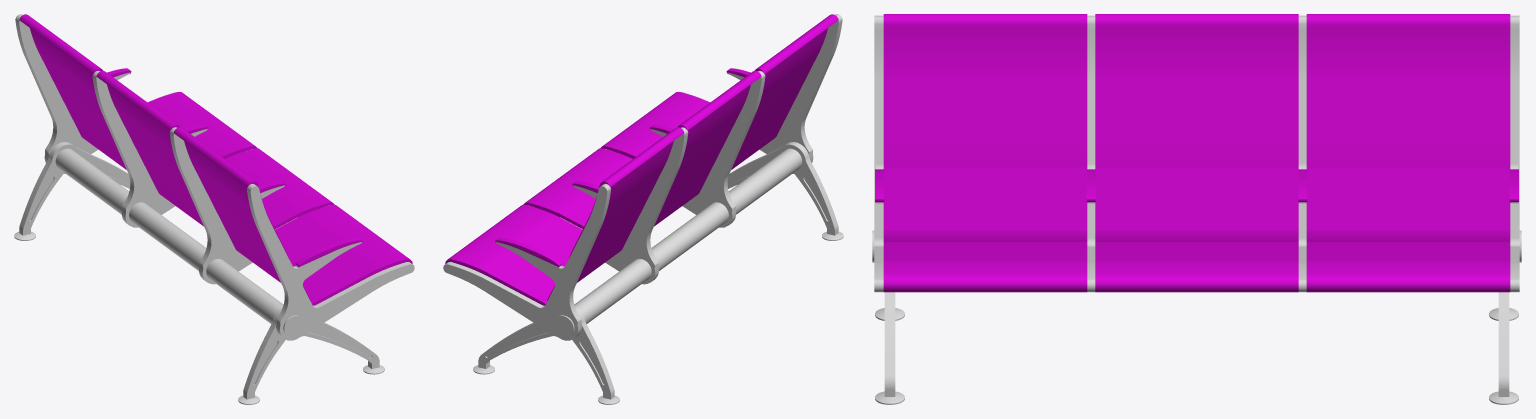
File: flyawayChairs.fbx
3 views of the same model, side by side, from view 1: azimuth 30°, elevation 25°; view 2: azimuth 150°, elevation 25°; view 3: azimuth 270°, elevation 25° (orthographic). The views are drawn at different scales.
Visible parts, largest first — view 1: flyawayChair; view 2: flyawayChair; view 3: flyawayChair.
Boxes of the visible parts, <box> form: flyawayChair: <box>14,14,414,404</box>; flyawayChair: <box>443,14,843,404</box>; flyawayChair: <box>872,14,1521,404</box>.
Size of the model in its own units: 81.31 by 100 by 195.
